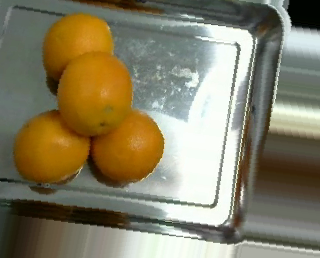Orange: (55, 51, 132, 136), (13, 108, 90, 183), (41, 12, 114, 90), (91, 107, 165, 182)
